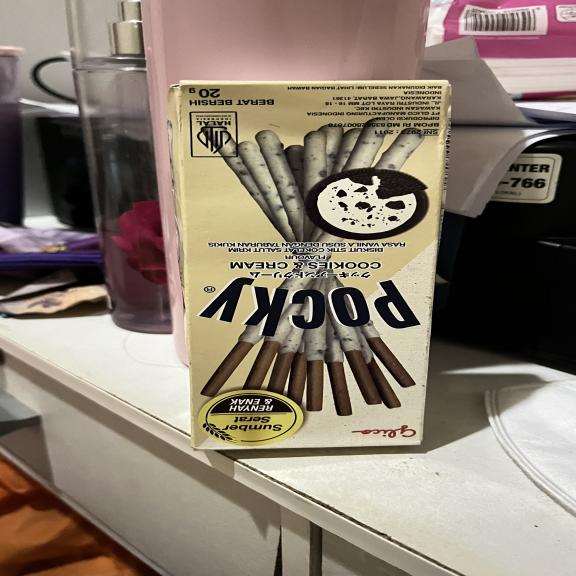Kertas: (178, 83, 450, 450)
